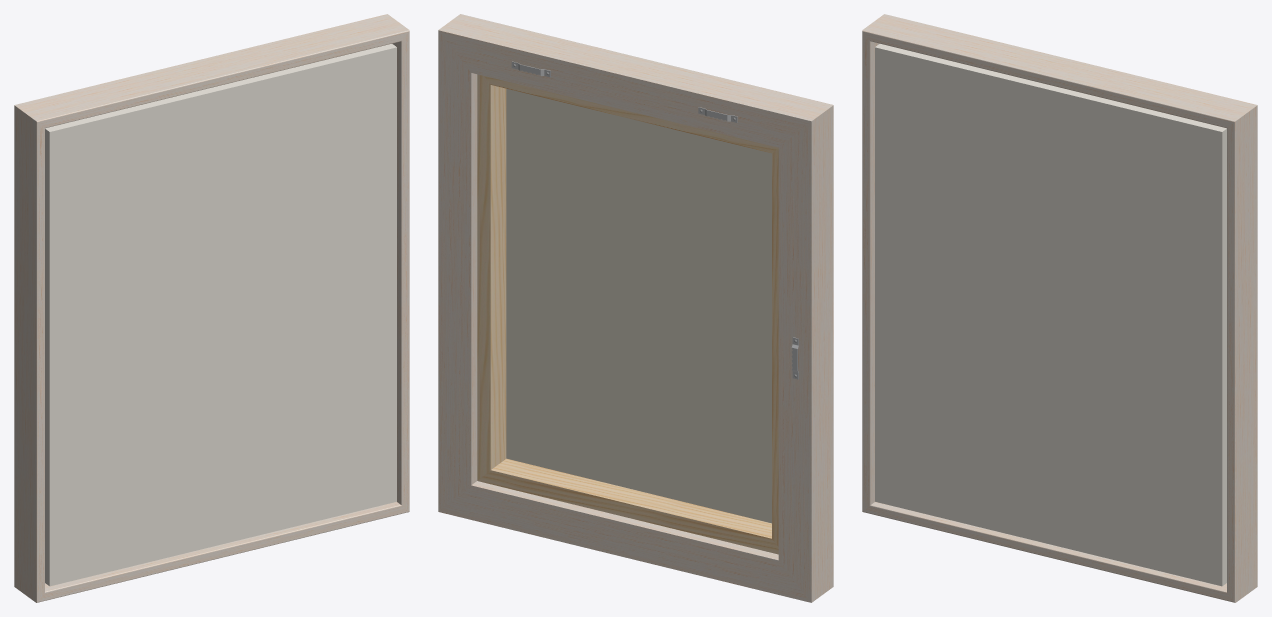
File: delivery.glb
3 views of the same model, side by side, from view 1: azimuth 30°, elevation 25°; view 2: azimuth 150°, elevation 25°; view 3: azimuth 330°, elevation 25° (orthographic).
Visible parts, largest first — view 1: Canvas artwork front, Tray approved profile 0; view 2: Canvas linen reverse, Tray approved profile 0, Stretcher top, Sawtooth hanger 0; view 3: Canvas artwork front, Tray approved profile 0.
Boxes of the visible parts, x1,y1,x2,y2 form: Canvas artwork front: (45, 44, 396, 586); Tray approved profile 0: (14, 14, 409, 602); Canvas linen reverse: (506, 88, 771, 523); Tray approved profile 0: (438, 14, 833, 602); Stretcher top: (477, 74, 778, 554); Sawtooth hanger 0: (511, 61, 798, 379); Canvas artwork front: (875, 44, 1226, 586); Tray approved profile 0: (862, 14, 1257, 602).
Size of the model in its own units: 0.43 by 0.53 by 0.0474.
7 materials, 3 textured.
